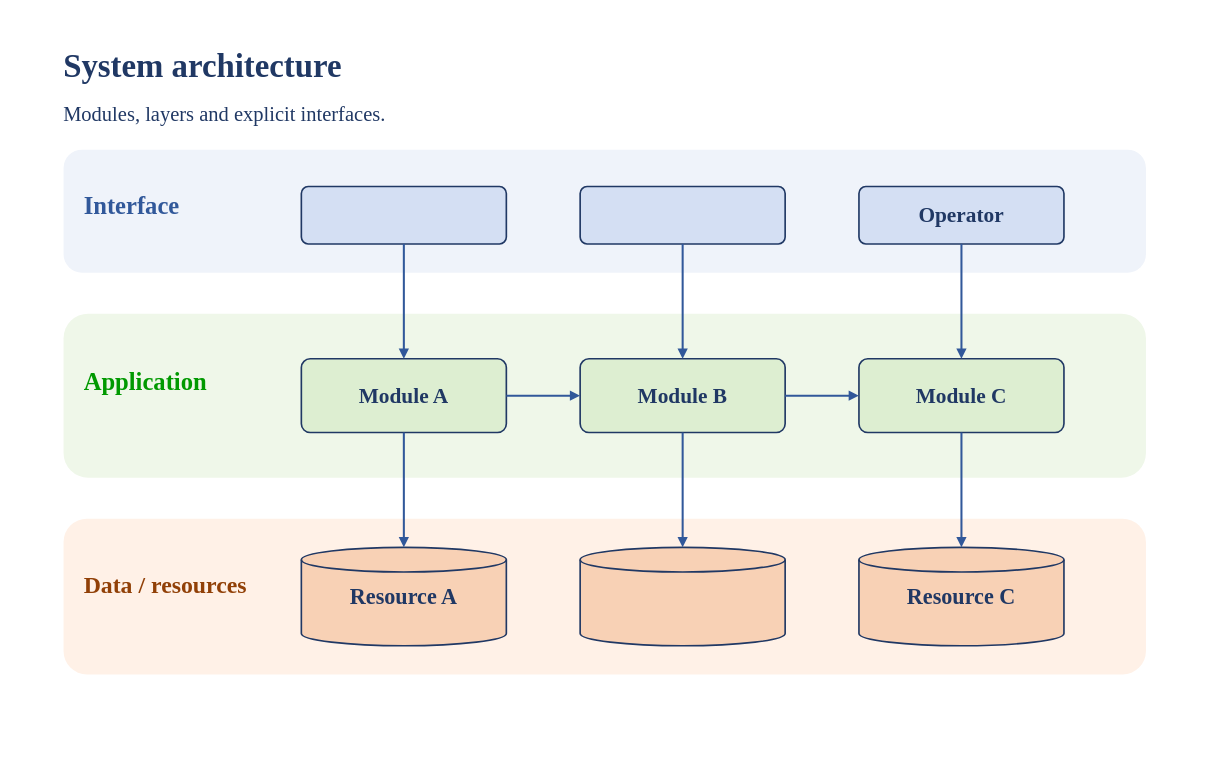
Some shapes in this 1209 by 766 pixel diagram are drawn without their labels. The centre of each missing label's shape, as x and y in pixels:
"API" goes at (682,214).
"Client" goes at (403,214).
"Resource B" goes at (682,596).
